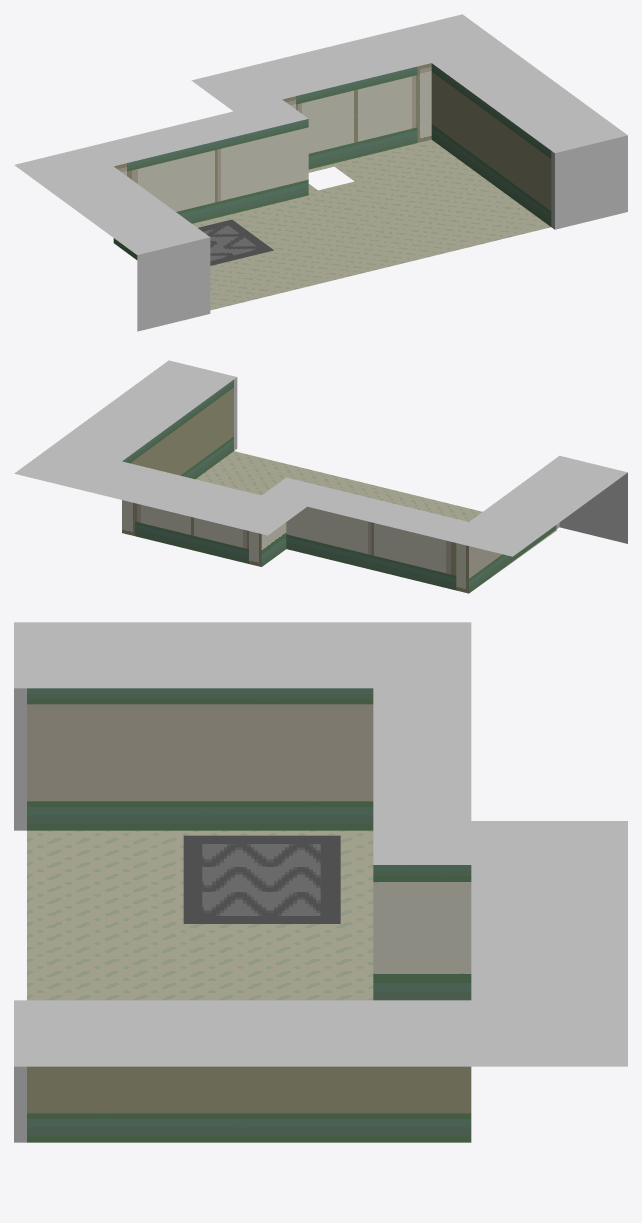
File: ROOM12-STAIRS-UP.obj
The picture shows the model from 3 angles, top to bottom: view 1: azimuth 30°, elevation 25°; view 2: azimuth 150°, elevation 25°; view 3: azimuth 270°, elevation 25°; orthographic projection. The views are drawn at different scales.
Parts seen in each view (by area): view 1: polygon0, polygon3, polygon2, polygon1; view 2: polygon0, polygon3, polygon2; view 3: polygon0, polygon3, polygon2, polygon1.
Part boxes in pixels (x1,y1,x2,y2): polygon0: (14, 14, 627, 331); polygon3: (113, 63, 551, 259); polygon2: (125, 139, 550, 310); polygon1: (198, 219, 273, 265); polygon0: (14, 360, 627, 556); polygon3: (122, 379, 556, 593); polygon2: (196, 451, 557, 587); polygon0: (14, 622, 627, 1142); polygon3: (27, 688, 471, 1142); polygon2: (27, 830, 373, 1000); polygon1: (183, 835, 340, 923).
Size of the model in its own units: 5.03 by 0.75 by 2.94.
